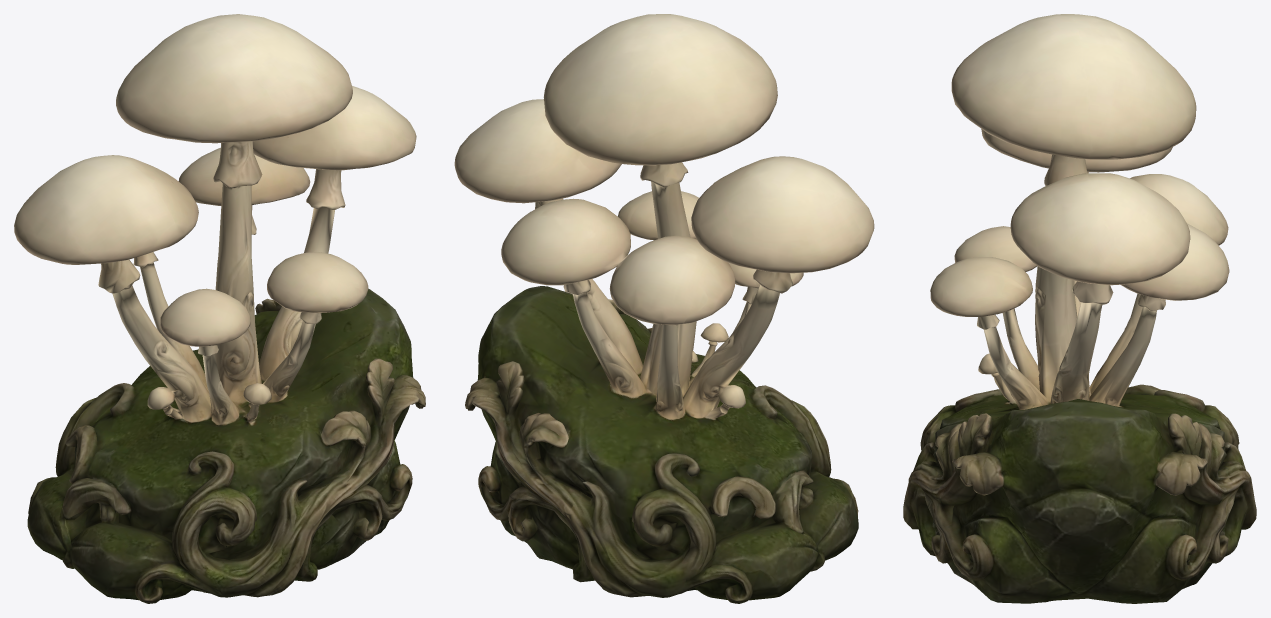
The model's file is grotto_mushrooms.glb.
3 renders of one model, left to right at view 1: azimuth 30°, elevation 25°; view 2: azimuth 150°, elevation 25°; view 3: azimuth 270°, elevation 25°, orthographic. The views are drawn at different scales.
Parts seen in each view (by area): view 1: tripo_node_03c30b14-a230-49cf-8802-cc454d7a4591; view 2: tripo_node_03c30b14-a230-49cf-8802-cc454d7a4591; view 3: tripo_node_03c30b14-a230-49cf-8802-cc454d7a4591.
Boxes of the visible parts, x1,y1,x2,y2 form: tripo_node_03c30b14-a230-49cf-8802-cc454d7a4591: (14,14,425,603); tripo_node_03c30b14-a230-49cf-8802-cc454d7a4591: (454,14,874,603); tripo_node_03c30b14-a230-49cf-8802-cc454d7a4591: (903,14,1256,603).
Size of the model in its own units: 0.7812 by 0.979 by 0.5942.
1 material, 1 textured.
